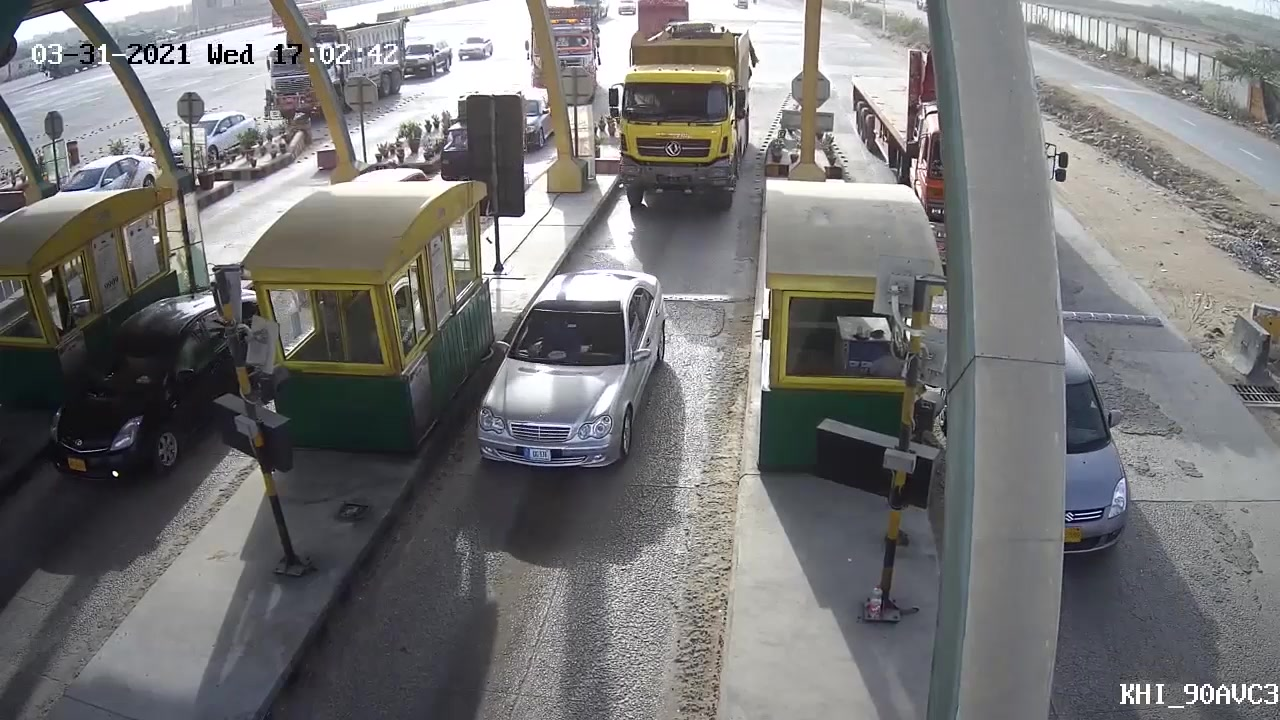F1: (473, 256, 679, 482)
F5: (599, 21, 766, 224)
